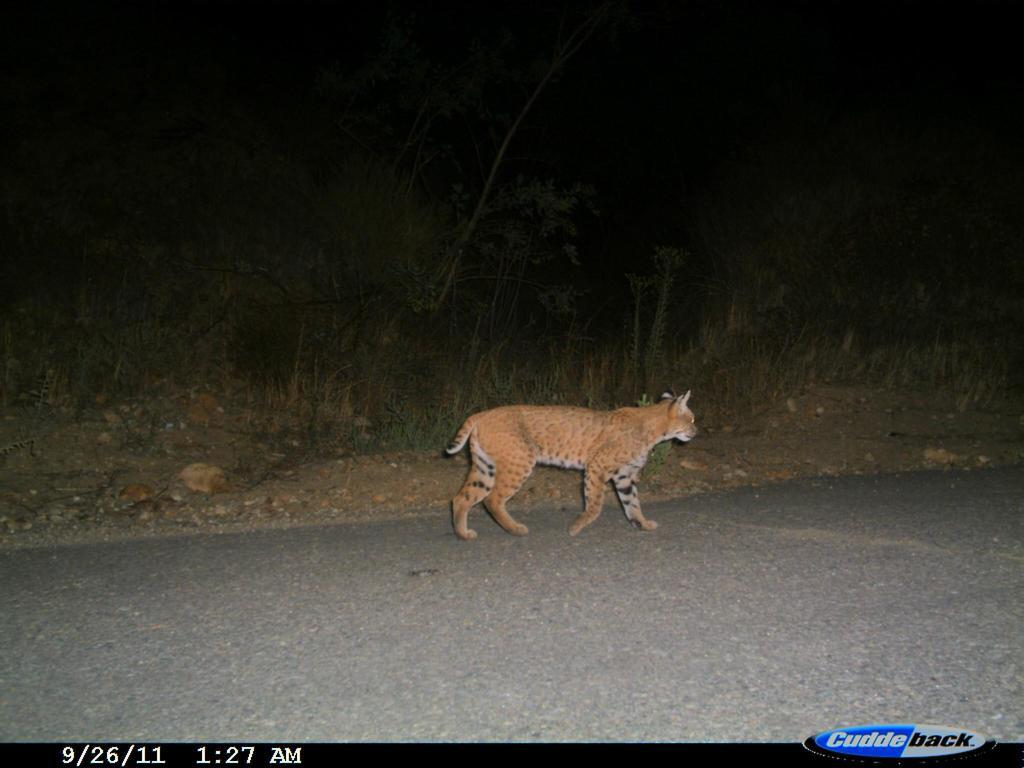bobcat: (419, 379, 715, 557)
